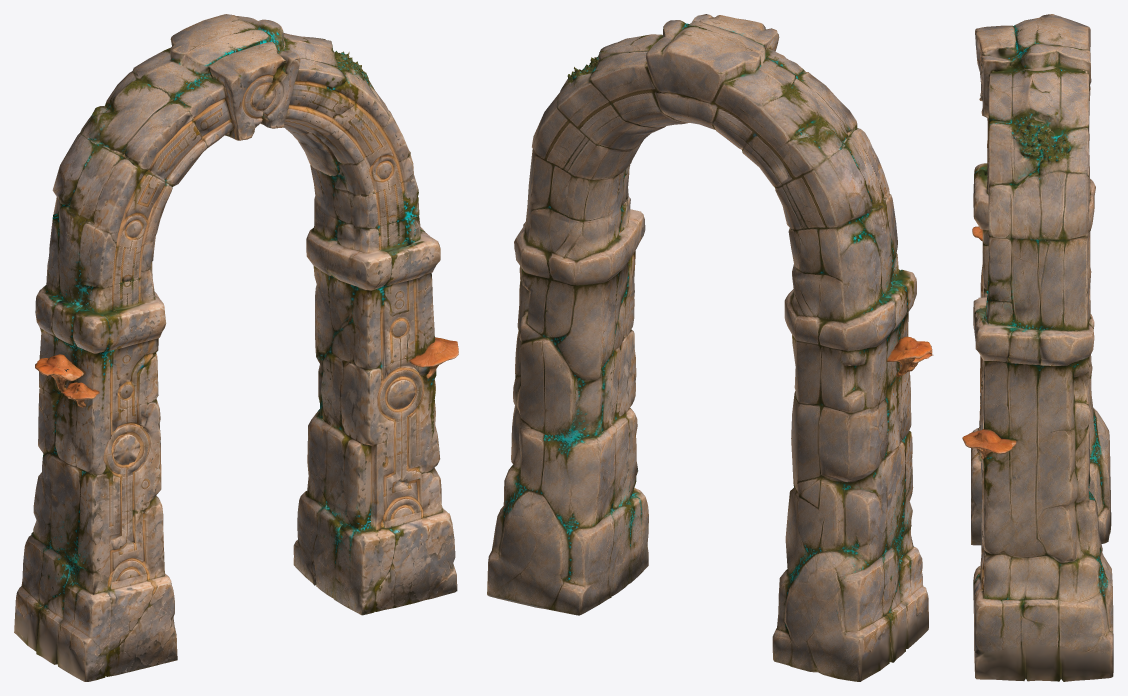
Rendered from citadel_arch.glb.
3 views of the same model, side by side, from view 1: azimuth 30°, elevation 25°; view 2: azimuth 150°, elevation 25°; view 3: azimuth 270°, elevation 25° (orthographic). The views are drawn at different scales.
Bounding box in the file's own units: 0.6943 × 0.9512 × 0.2319.
Materials: 1 (1 with a texture image).
